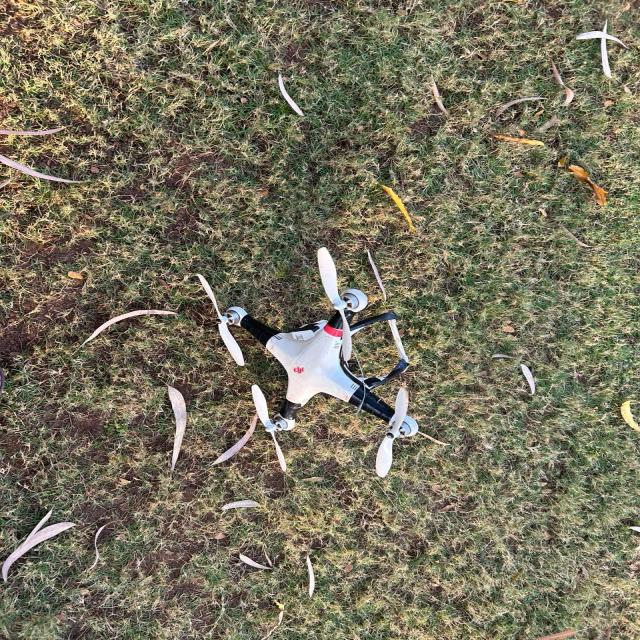drone: (134, 240, 531, 492)
